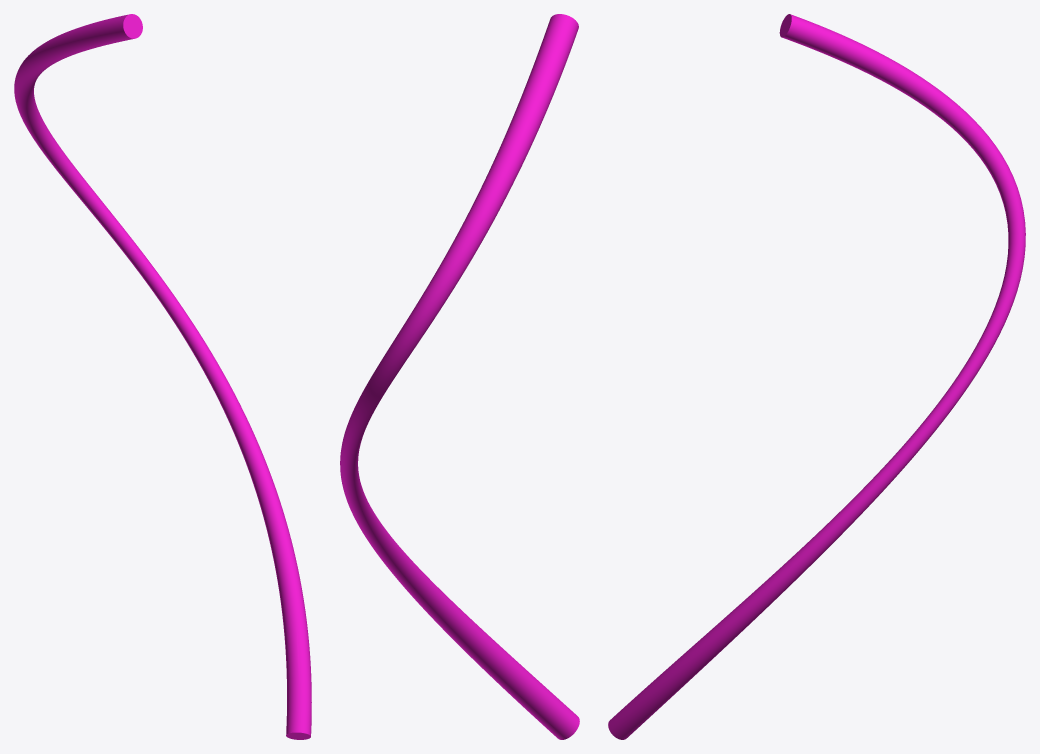
The picture shows the model from 3 angles, left to right: view 1: azimuth 30°, elevation 25°; view 2: azimuth 150°, elevation 25°; view 3: azimuth 270°, elevation 25°; orthographic projection. The views are drawn at different scales.
Parts seen in each view (by area): view 1: rail_tracks; view 2: rail_tracks; view 3: rail_tracks.
Boxes of the visible parts, <box> form: rail_tracks: <box>14,14,311,739</box>; rail_tracks: <box>340,14,579,739</box>; rail_tracks: <box>608,14,1025,739</box>.
Size of the model in its own units: 7.64 by 30.28 by 16.82.
